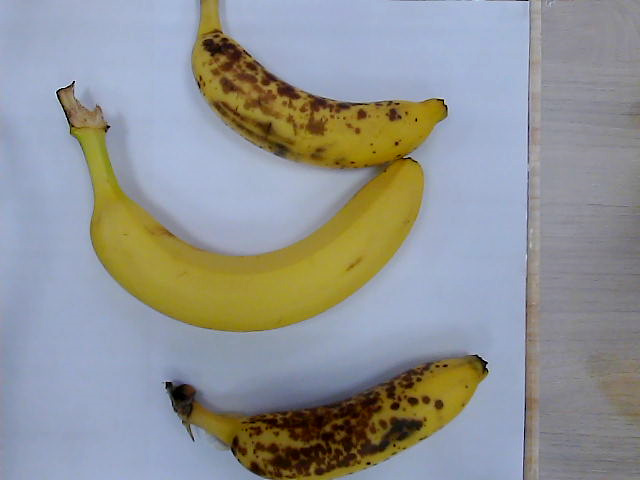fresh_banana: (54, 82, 425, 336)
rotten_banana: (190, 1, 449, 168), (165, 357, 487, 480)
